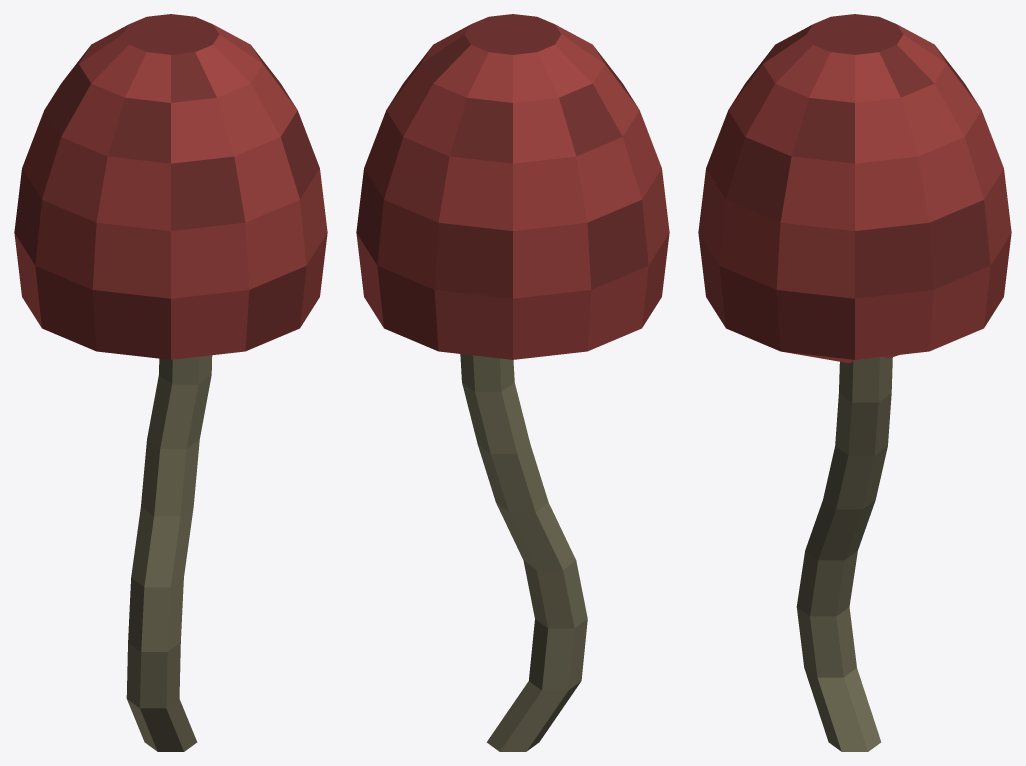
Rendered from Mushroom_2_Red.fbx.
The picture shows the model from 3 angles, left to right: view 1: azimuth 30°, elevation 25°; view 2: azimuth 150°, elevation 25°; view 3: azimuth 270°, elevation 25°; orthographic projection.
Visible parts, largest first — view 1: Mushroom_2_Red; view 2: Mushroom_2_Red; view 3: Mushroom_2_Red.
Part boxes in pixels (bbox=[...]): Mushroom_2_Red: bbox=[14, 14, 327, 751]; Mushroom_2_Red: bbox=[356, 14, 669, 751]; Mushroom_2_Red: bbox=[698, 14, 1011, 751].
Bounding box in the file's own units: 11.86 × 29.58 × 11.86.
